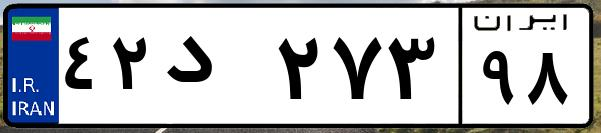2: (270, 28, 330, 110), (110, 28, 158, 98)
3: (385, 28, 445, 110)
4: (57, 26, 110, 100)
7: (330, 28, 385, 110)
8: (525, 38, 570, 115)
9: (475, 38, 525, 113)
د: (158, 20, 270, 120)
